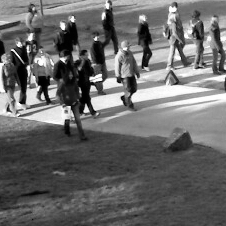person: (57, 70, 88, 142), (113, 40, 141, 111), (73, 49, 100, 119), (167, 1, 191, 66), (10, 36, 29, 110), (162, 12, 184, 70), (1, 52, 21, 115), (33, 45, 54, 105), (187, 10, 208, 69), (90, 31, 108, 95), (136, 14, 155, 72), (208, 14, 226, 75), (101, 1, 119, 54), (54, 20, 75, 63), (25, 3, 44, 49), (52, 49, 74, 83), (67, 14, 81, 59), (1, 34, 6, 94)
